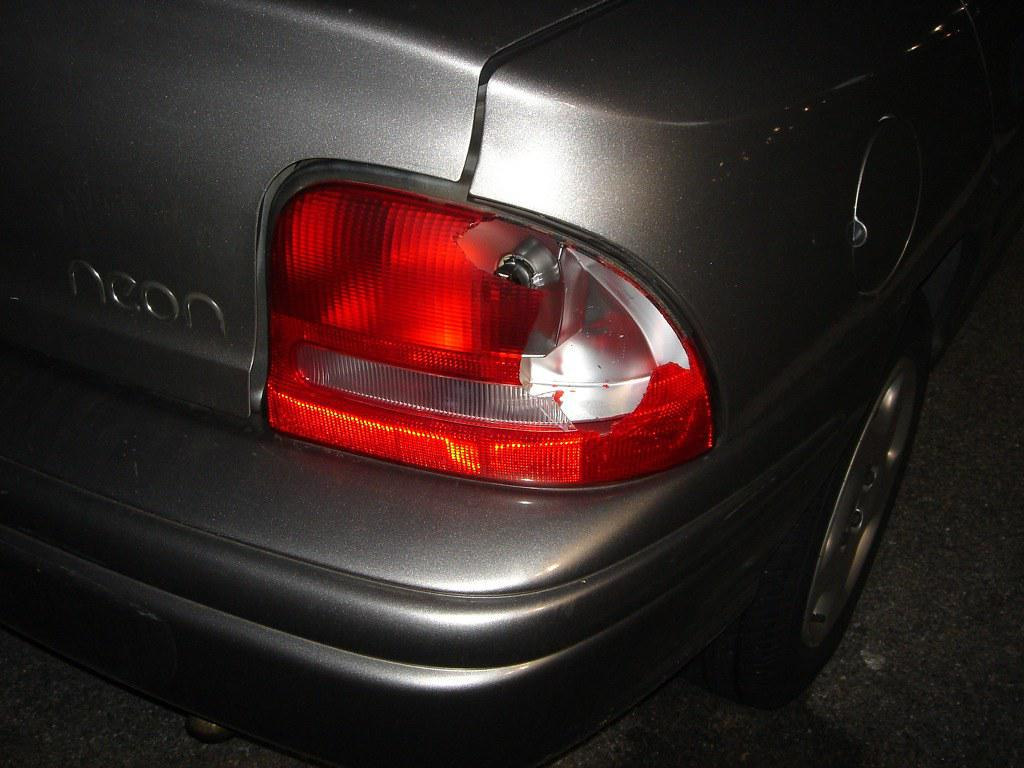Taillight-Damage: (215, 74, 720, 494)
